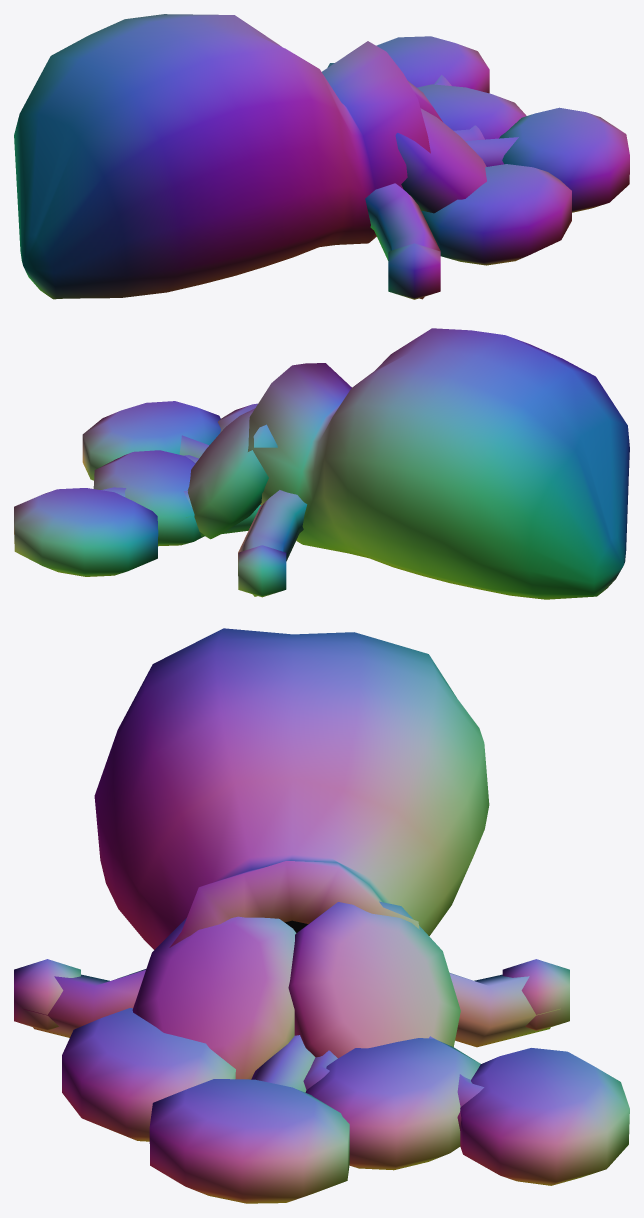
Rendered from SM_Pickup_Quest_Tags.fbx.
3 renders of one model, top to bottom at view 1: azimuth 30°, elevation 25°; view 2: azimuth 150°, elevation 25°; view 3: azimuth 270°, elevation 25°, orthographic. The views are drawn at different scales.
Parts seen in each view (by area): view 1: SM_Pickup_Quest_Tags; view 2: SM_Pickup_Quest_Tags; view 3: SM_Pickup_Quest_Tags.
Part boxes in pixels (<box>): SM_Pickup_Quest_Tags: <box>14,14,629,299</box>; SM_Pickup_Quest_Tags: <box>14,328,629,599</box>; SM_Pickup_Quest_Tags: <box>14,628,629,1203</box>.
Bounding box in the file's own units: 0.3338 × 0.1276 × 0.2369.
